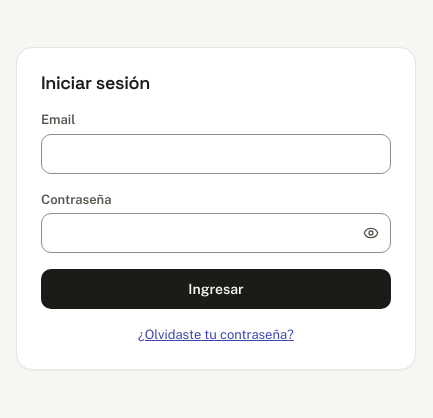
it: LoginPage — escenarios STD-SW-003 › 4. Login fallido muestra el error real y reactiva el submit
This screenshot has width=433, height=418.
Type "a@example.com" into the field labelled "Email". click: (216, 154)
box: [41,134,391,174]
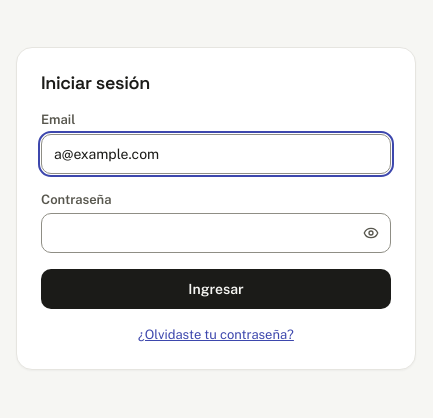
Type "wrong" into the password field labelled "Contraseña". click: (216, 233)
box: [41,213,391,253]
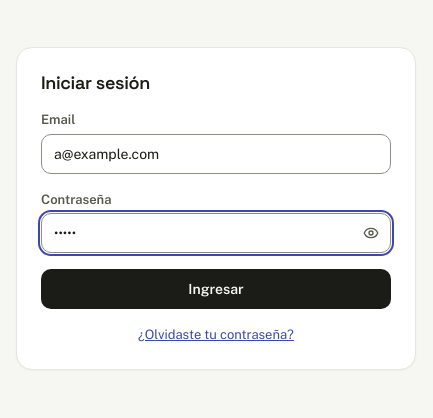
Click the button "Ingresar". click: (216, 289)
box: [41,269,391,309]
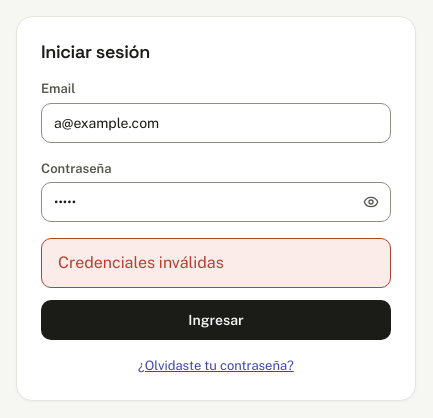
Expected: the button "Ingresar" is enabled, [41,300,391,340]
Expected: the message reads "Credenciales inválidas", [58,253,224,272]
